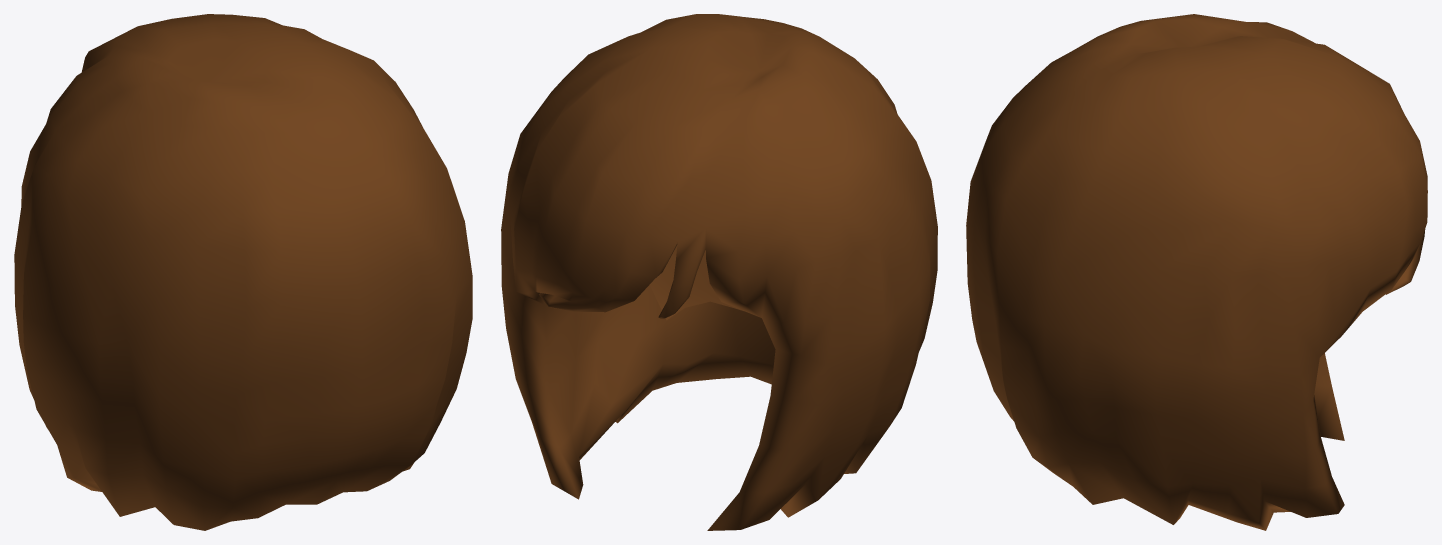
The model's file is Hair_Female_004.glb.
3 views of the same model, side by side, from view 1: azimuth 30°, elevation 25°; view 2: azimuth 150°, elevation 25°; view 3: azimuth 270°, elevation 25° (orthographic). The views are drawn at different scales.
Parts seen in each view (by area): view 1: Hair_Female_004; view 2: Hair_Female_004; view 3: Hair_Female_004.
Part boxes in pixels (x1,y1,x2,y2): Hair_Female_004: [14, 14, 472, 530]; Hair_Female_004: [501, 14, 937, 530]; Hair_Female_004: [966, 14, 1427, 530].
Bounding box in the file's own units: 0.214 × 0.2309 × 0.223.
